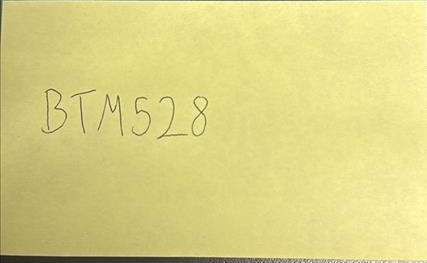OCR_AREA: (40, 88, 211, 141)
